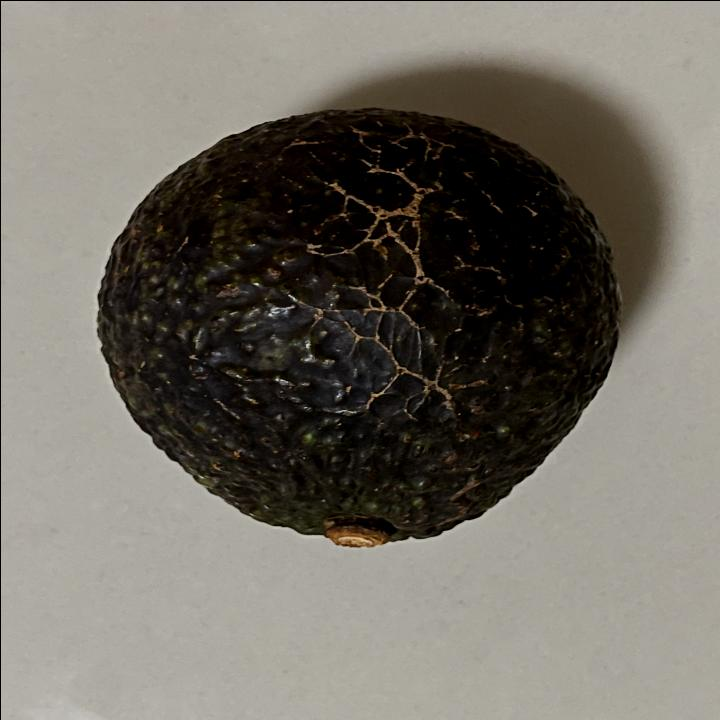Level1: (79, 95, 629, 562)
